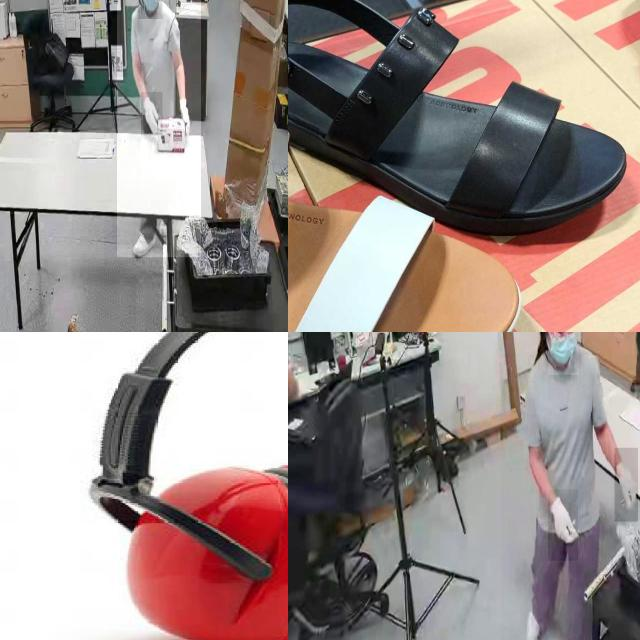Ear-protection: (107, 332, 288, 640)
Sandals: (288, 0, 638, 244), (288, 68, 534, 332)
face_mask: (548, 332, 579, 375), (138, 0, 162, 19)
hand_glove: (548, 489, 578, 562), (614, 448, 638, 522), (141, 92, 163, 136), (173, 92, 193, 136)
hand_noglove: (288, 357, 300, 400)
person: (501, 332, 640, 640), (116, 0, 201, 258)
shoes: (133, 219, 160, 262), (523, 603, 546, 640)
